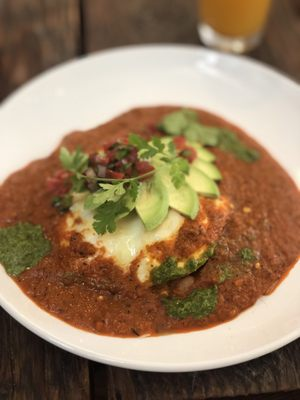curry: (0, 221, 52, 277)
pizza: (195, 0, 273, 55)
